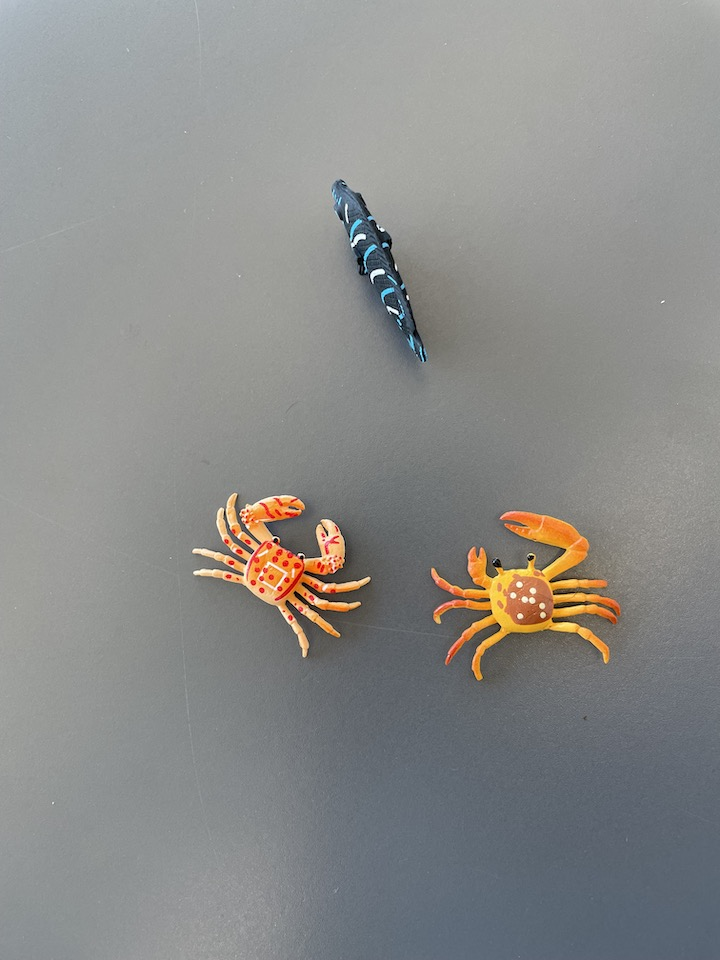crab: (412, 504, 618, 684), (190, 489, 379, 663)
fish: (327, 174, 434, 367)
